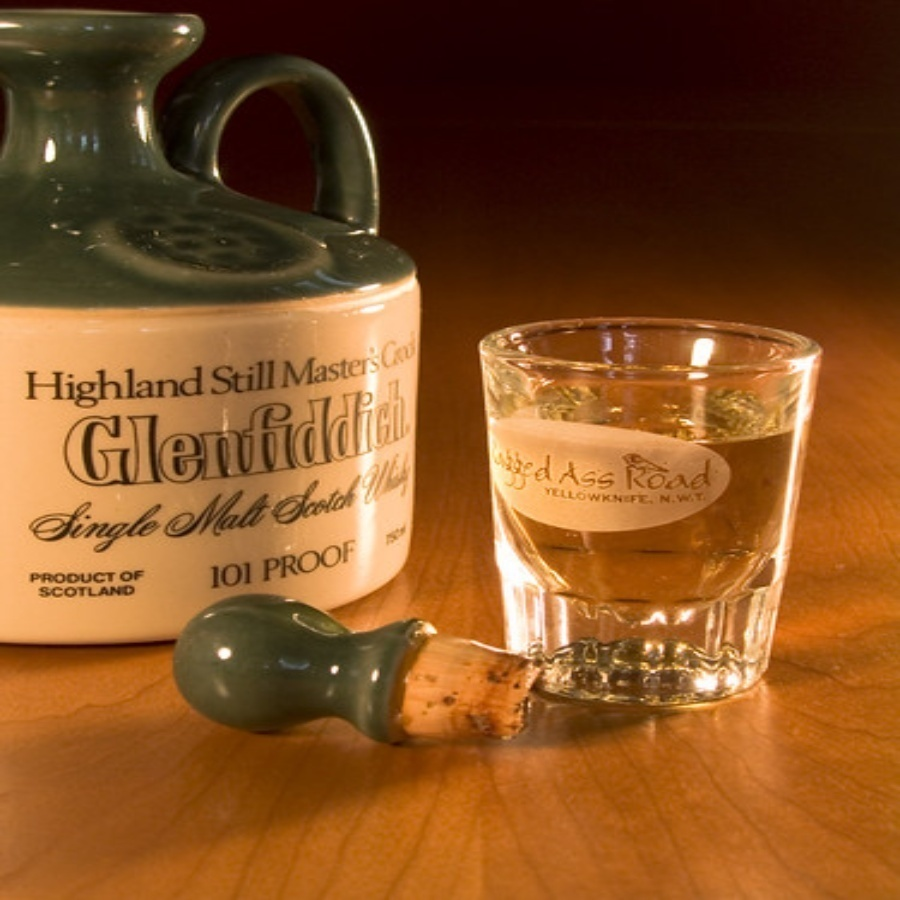whiskey: (487, 321, 820, 694)
